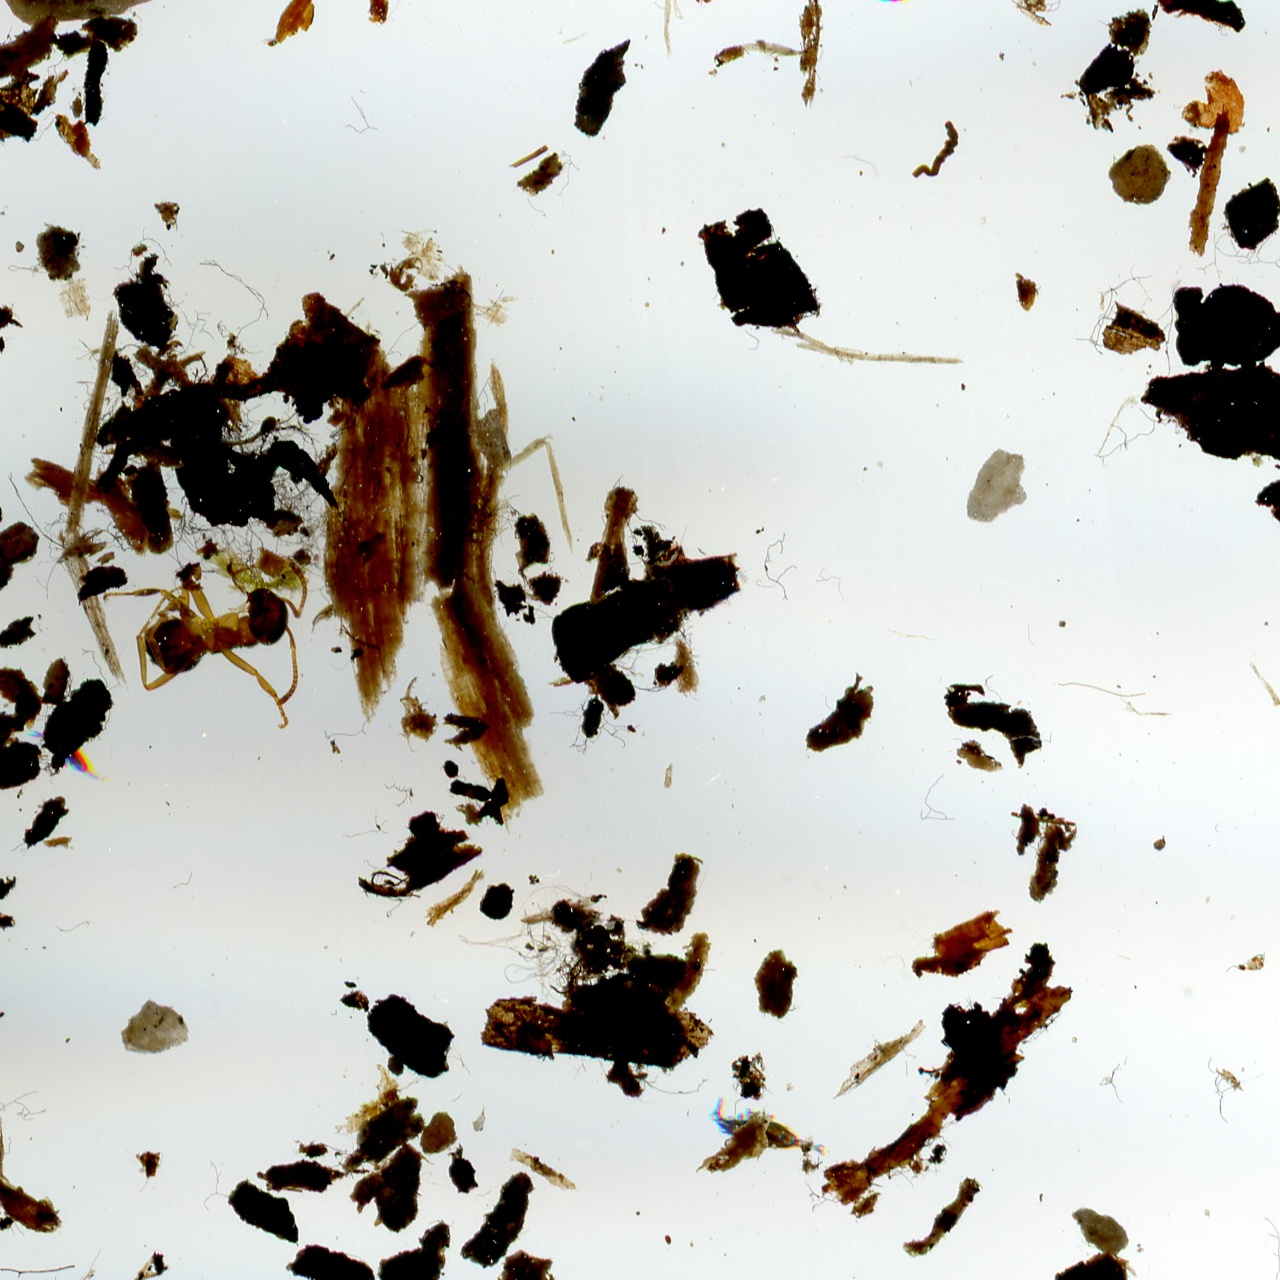arthropod: (102, 559, 309, 733), (702, 1090, 836, 1165), (19, 718, 121, 794), (798, 0, 923, 12)
